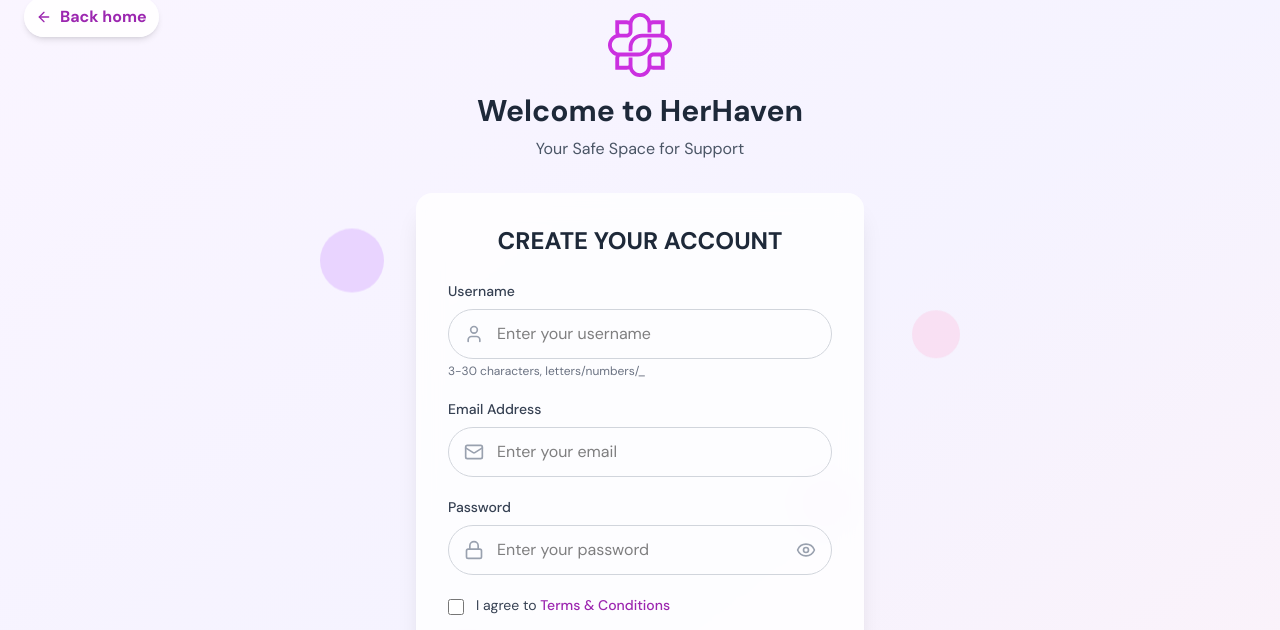
it: Signup Page › should validate username format
// Too short username
Type "ab" into the field named "username" at (640, 334), box [448,309,832,359]
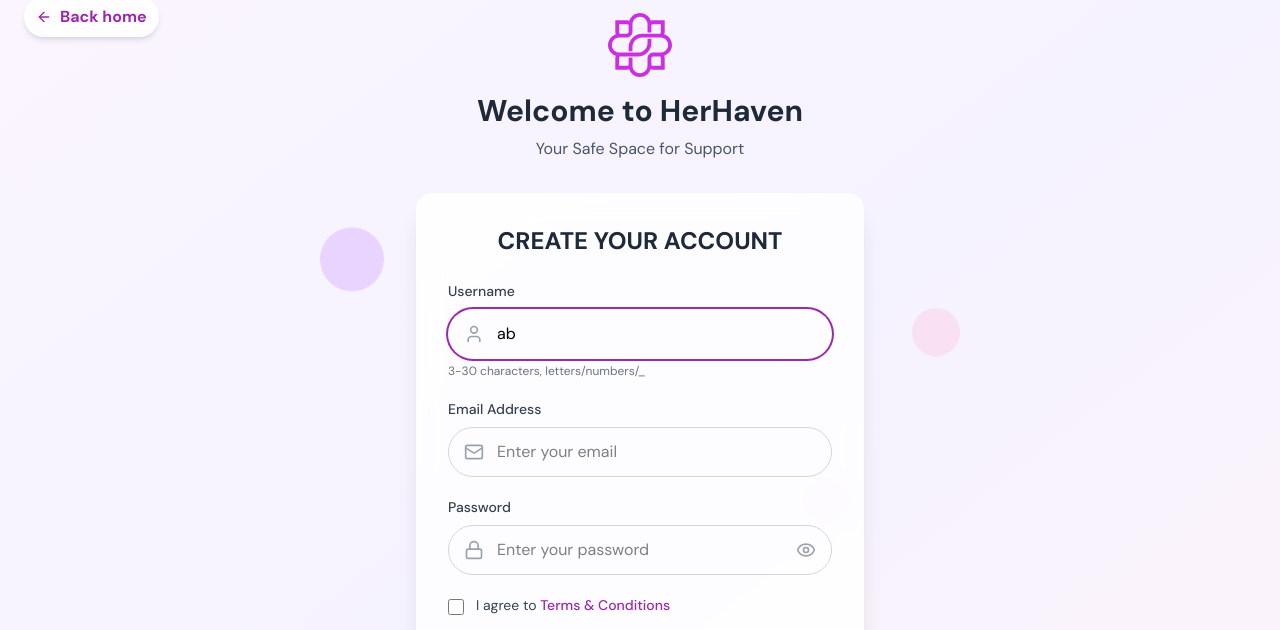
Type "test@example.com" into the field named "email" at (640, 452), box [448,427,832,477]
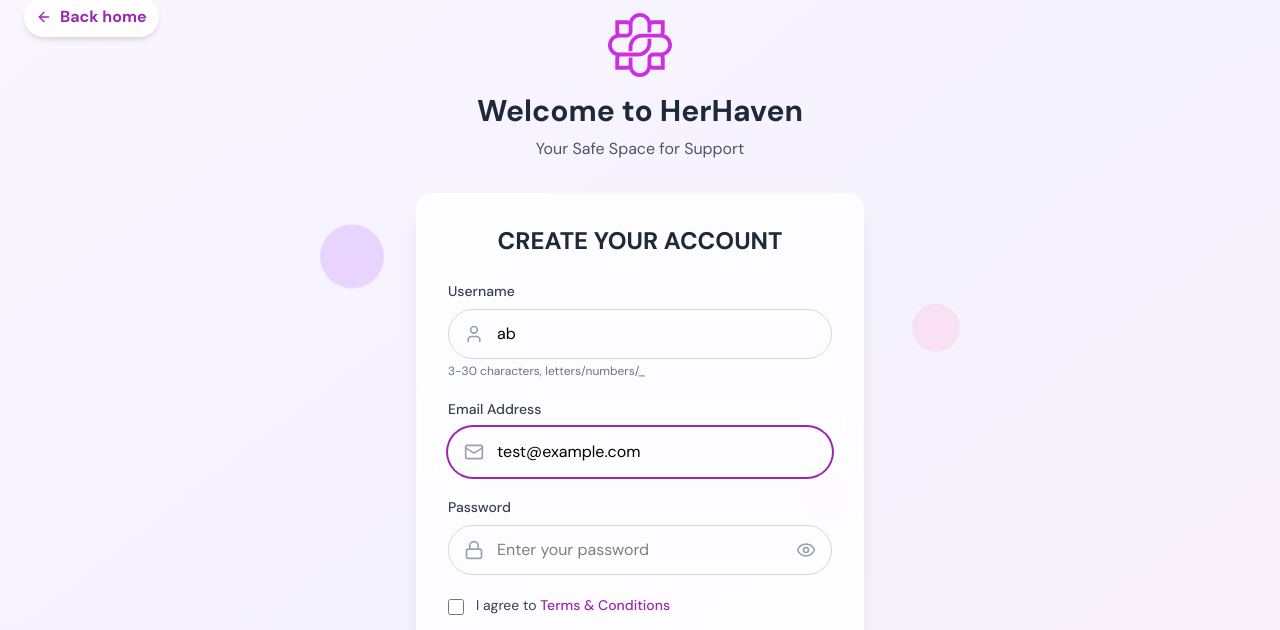
Type "Test123456" into the password field named "password" at (640, 550), box [448,525,832,575]
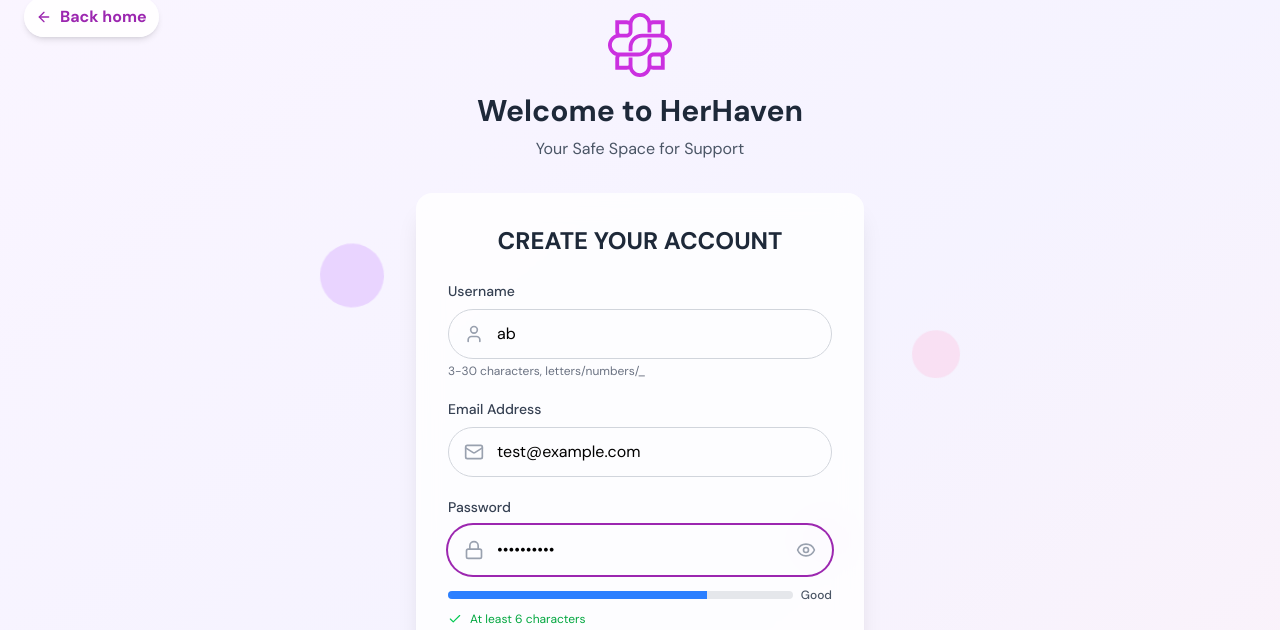
Scroll
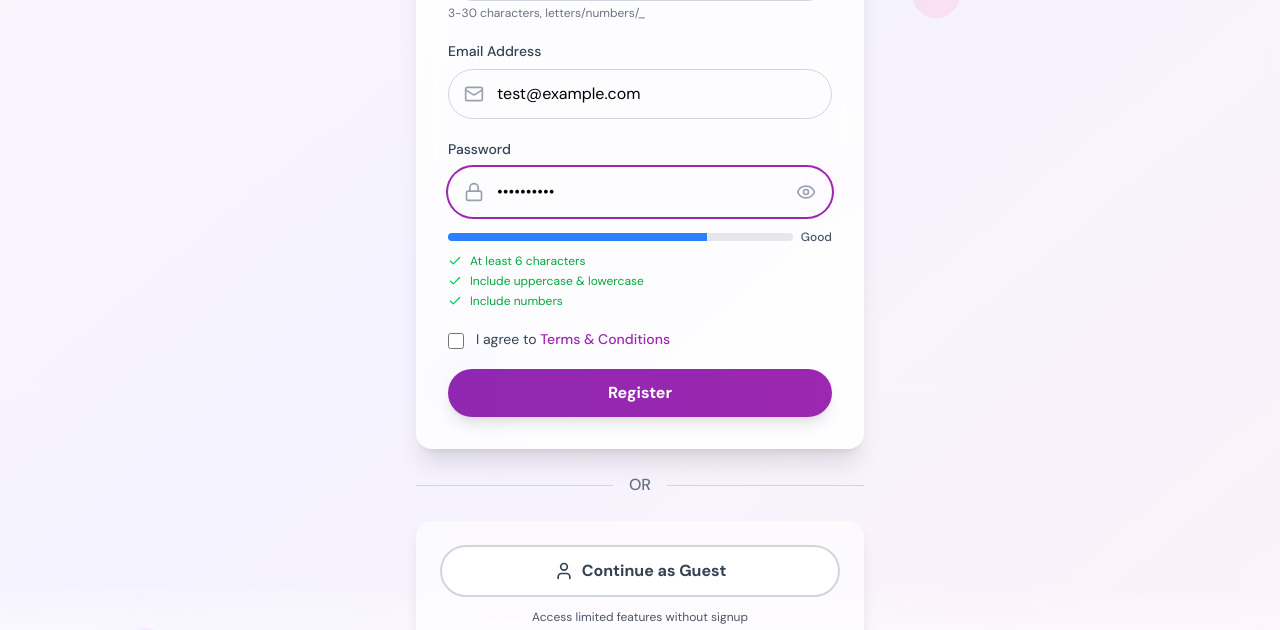
Check the checkbox named "agreeToTerms" at (456, 341), box [448,333,464,349]
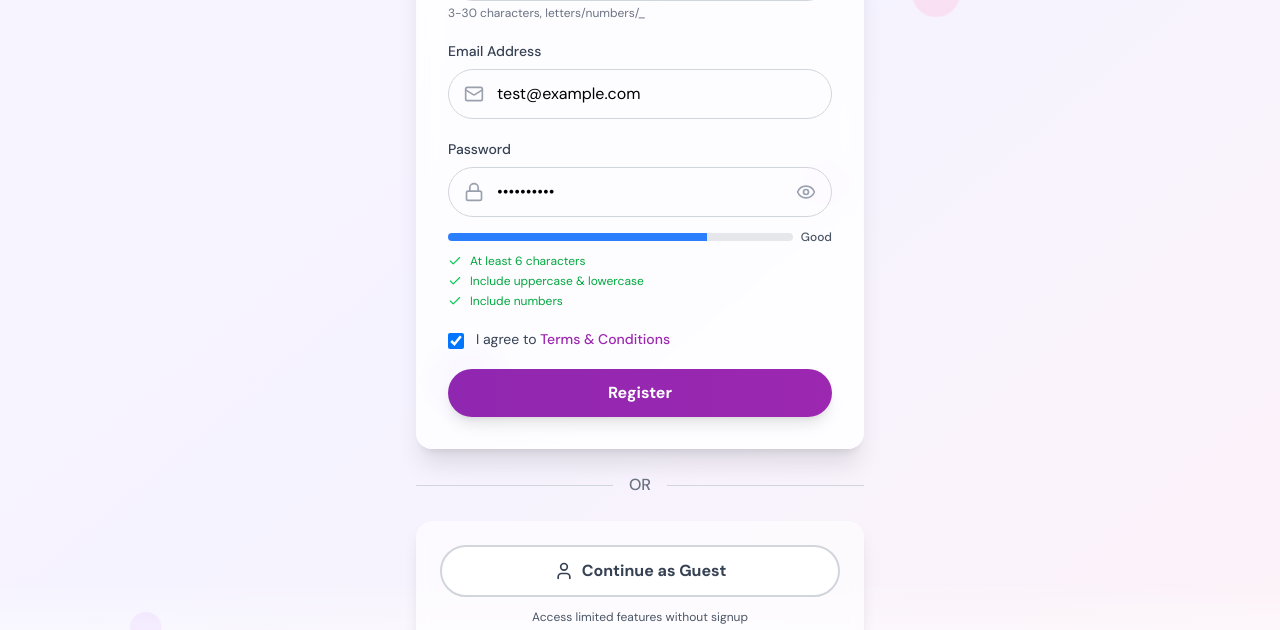
Click the submit button at (640, 393), box [448,369,832,417]
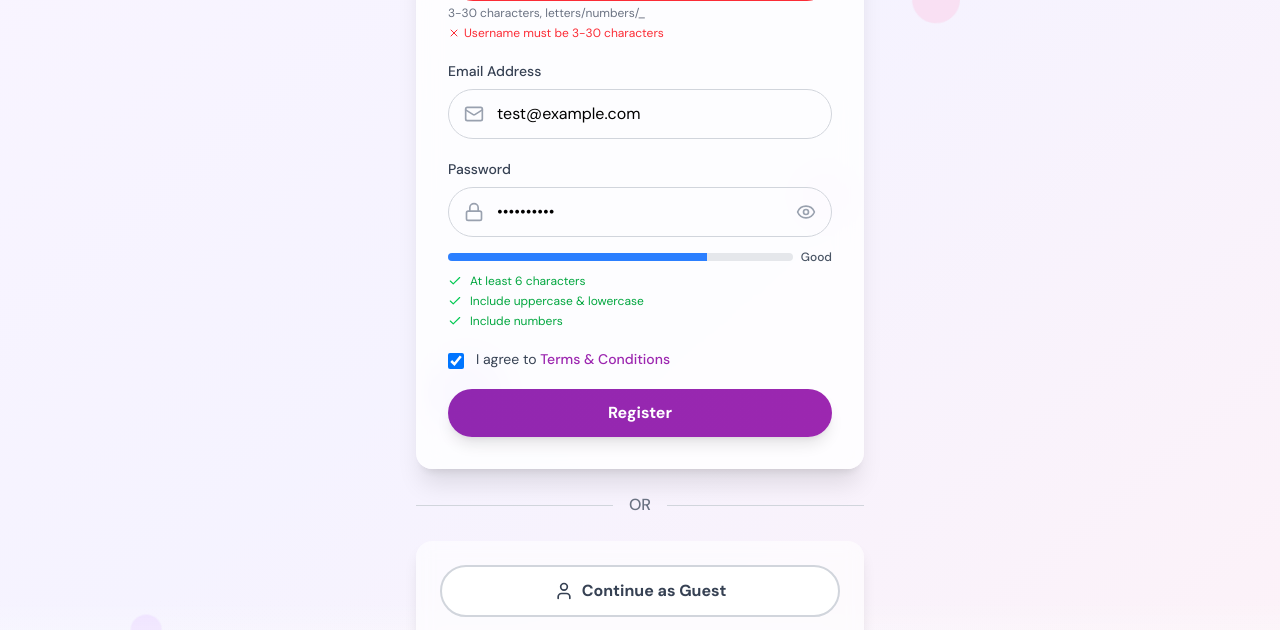
expect the text "Username must be 3-30 characters" is shown: met, box [448,25,664,41]
